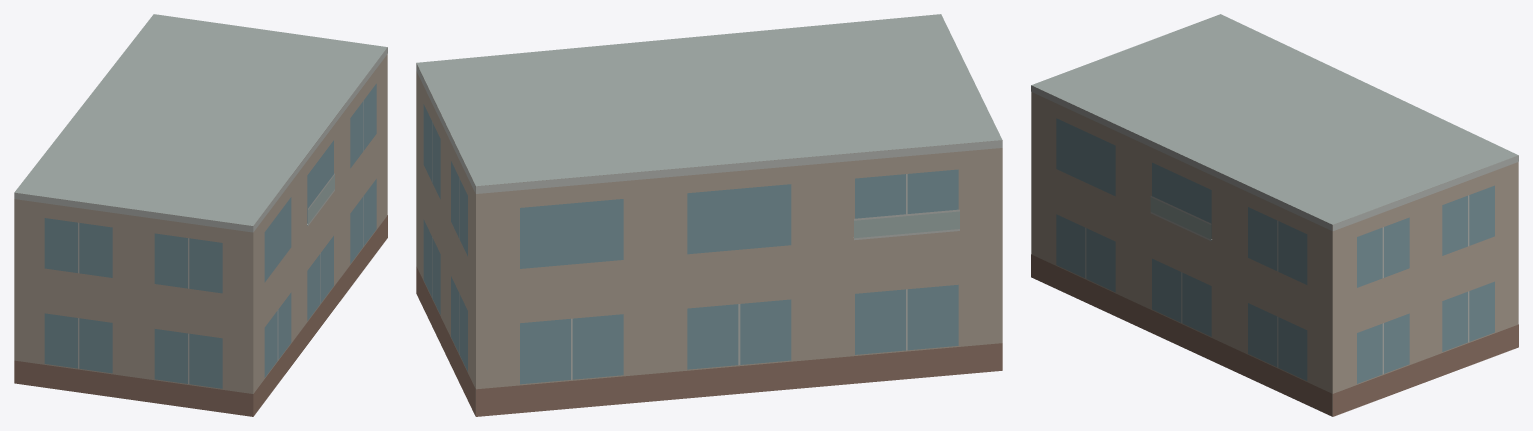
The model's file is survey-upis-32731033.glb.
3 views of the same model, side by side, from view 1: azimuth 30°, elevation 25°; view 2: azimuth 150°, elevation 25°; view 3: azimuth 270°, elevation 25° (orthographic). The views are drawn at different scales.
Parts seen in each view (by area): view 1: survey-upis-32731033.tmp; view 2: survey-upis-32731033.tmp; view 3: survey-upis-32731033.tmp.
Boxes of the visible parts, x1,y1,x2,y2 form: survey-upis-32731033.tmp: (14, 14, 387, 416); survey-upis-32731033.tmp: (416, 14, 1002, 416); survey-upis-32731033.tmp: (1031, 14, 1518, 416).
Size of the model in its own units: 16.96 by 7.2 by 16.58.
